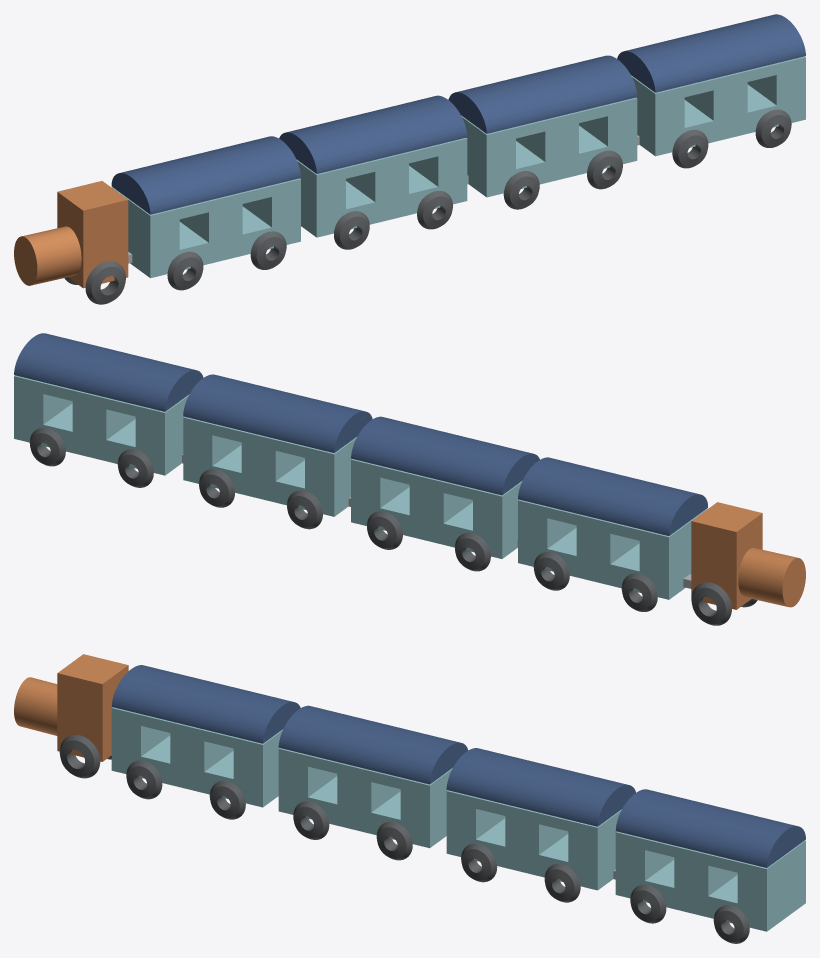
File: Train in the desert.glb
3 views of the same model, one above another, from view 1: azimuth 30°, elevation 25°; view 2: azimuth 150°, elevation 25°; view 3: azimuth 330°, elevation 25° (orthographic).
Visible parts, largest first — view 1: Mesh_Mesh_head_geo.001_lambert2SG.001; view 2: Mesh_Mesh_head_geo.001_lambert2SG.001; view 3: Mesh_Mesh_head_geo.001_lambert2SG.001.
Part boxes in pixels (x1,y1,x2,y2): Mesh_Mesh_head_geo.001_lambert2SG.001: (14,14,805,304); Mesh_Mesh_head_geo.001_lambert2SG.001: (14,333,805,625); Mesh_Mesh_head_geo.001_lambert2SG.001: (14,654,805,943).
Size of the model in its own units: 338 by 46 by 38.
